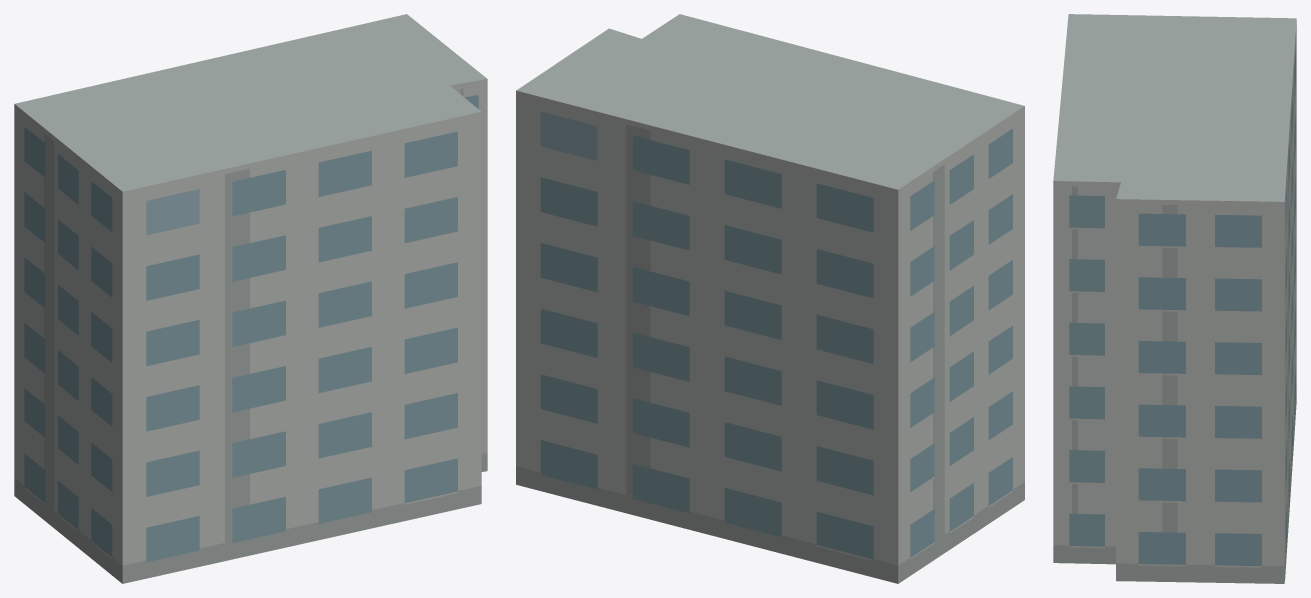
File: survey-upis-32567823.glb
3 views of the same model, side by side, from view 1: azimuth 30°, elevation 25°; view 2: azimuth 150°, elevation 25°; view 3: azimuth 270°, elevation 25° (orthographic). The views are drawn at different scales.
Parts seen in each view (by area): view 1: survey-upis-32567823.tmp; view 2: survey-upis-32567823.tmp; view 3: survey-upis-32567823.tmp.
Part boxes in pixels (bbox=[...]): survey-upis-32567823.tmp: bbox=[14, 14, 487, 583]; survey-upis-32567823.tmp: bbox=[516, 14, 1024, 583]; survey-upis-32567823.tmp: bbox=[1053, 14, 1296, 583].
Bounding box in the file's own units: 19.31 × 18.3 × 10.58.
